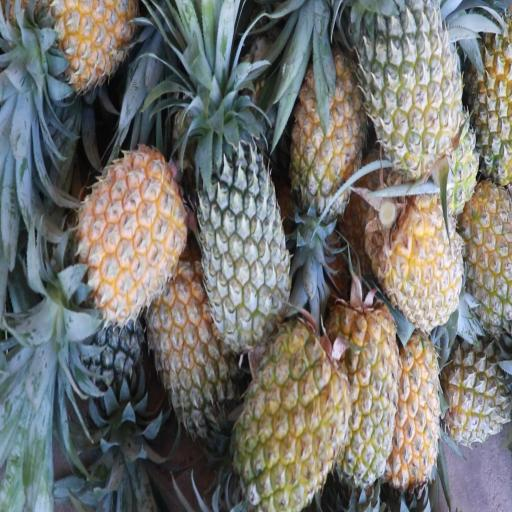------------------------------: (365, 2, 460, 168), (144, 272, 233, 432), (466, 12, 512, 174), (460, 185, 512, 312), (443, 344, 508, 445)
Pineapple - v8 v1: (237, 327, 346, 508), (80, 152, 182, 318), (332, 300, 400, 479), (287, 57, 362, 218), (384, 181, 462, 321), (42, 0, 136, 85), (395, 330, 443, 484)
